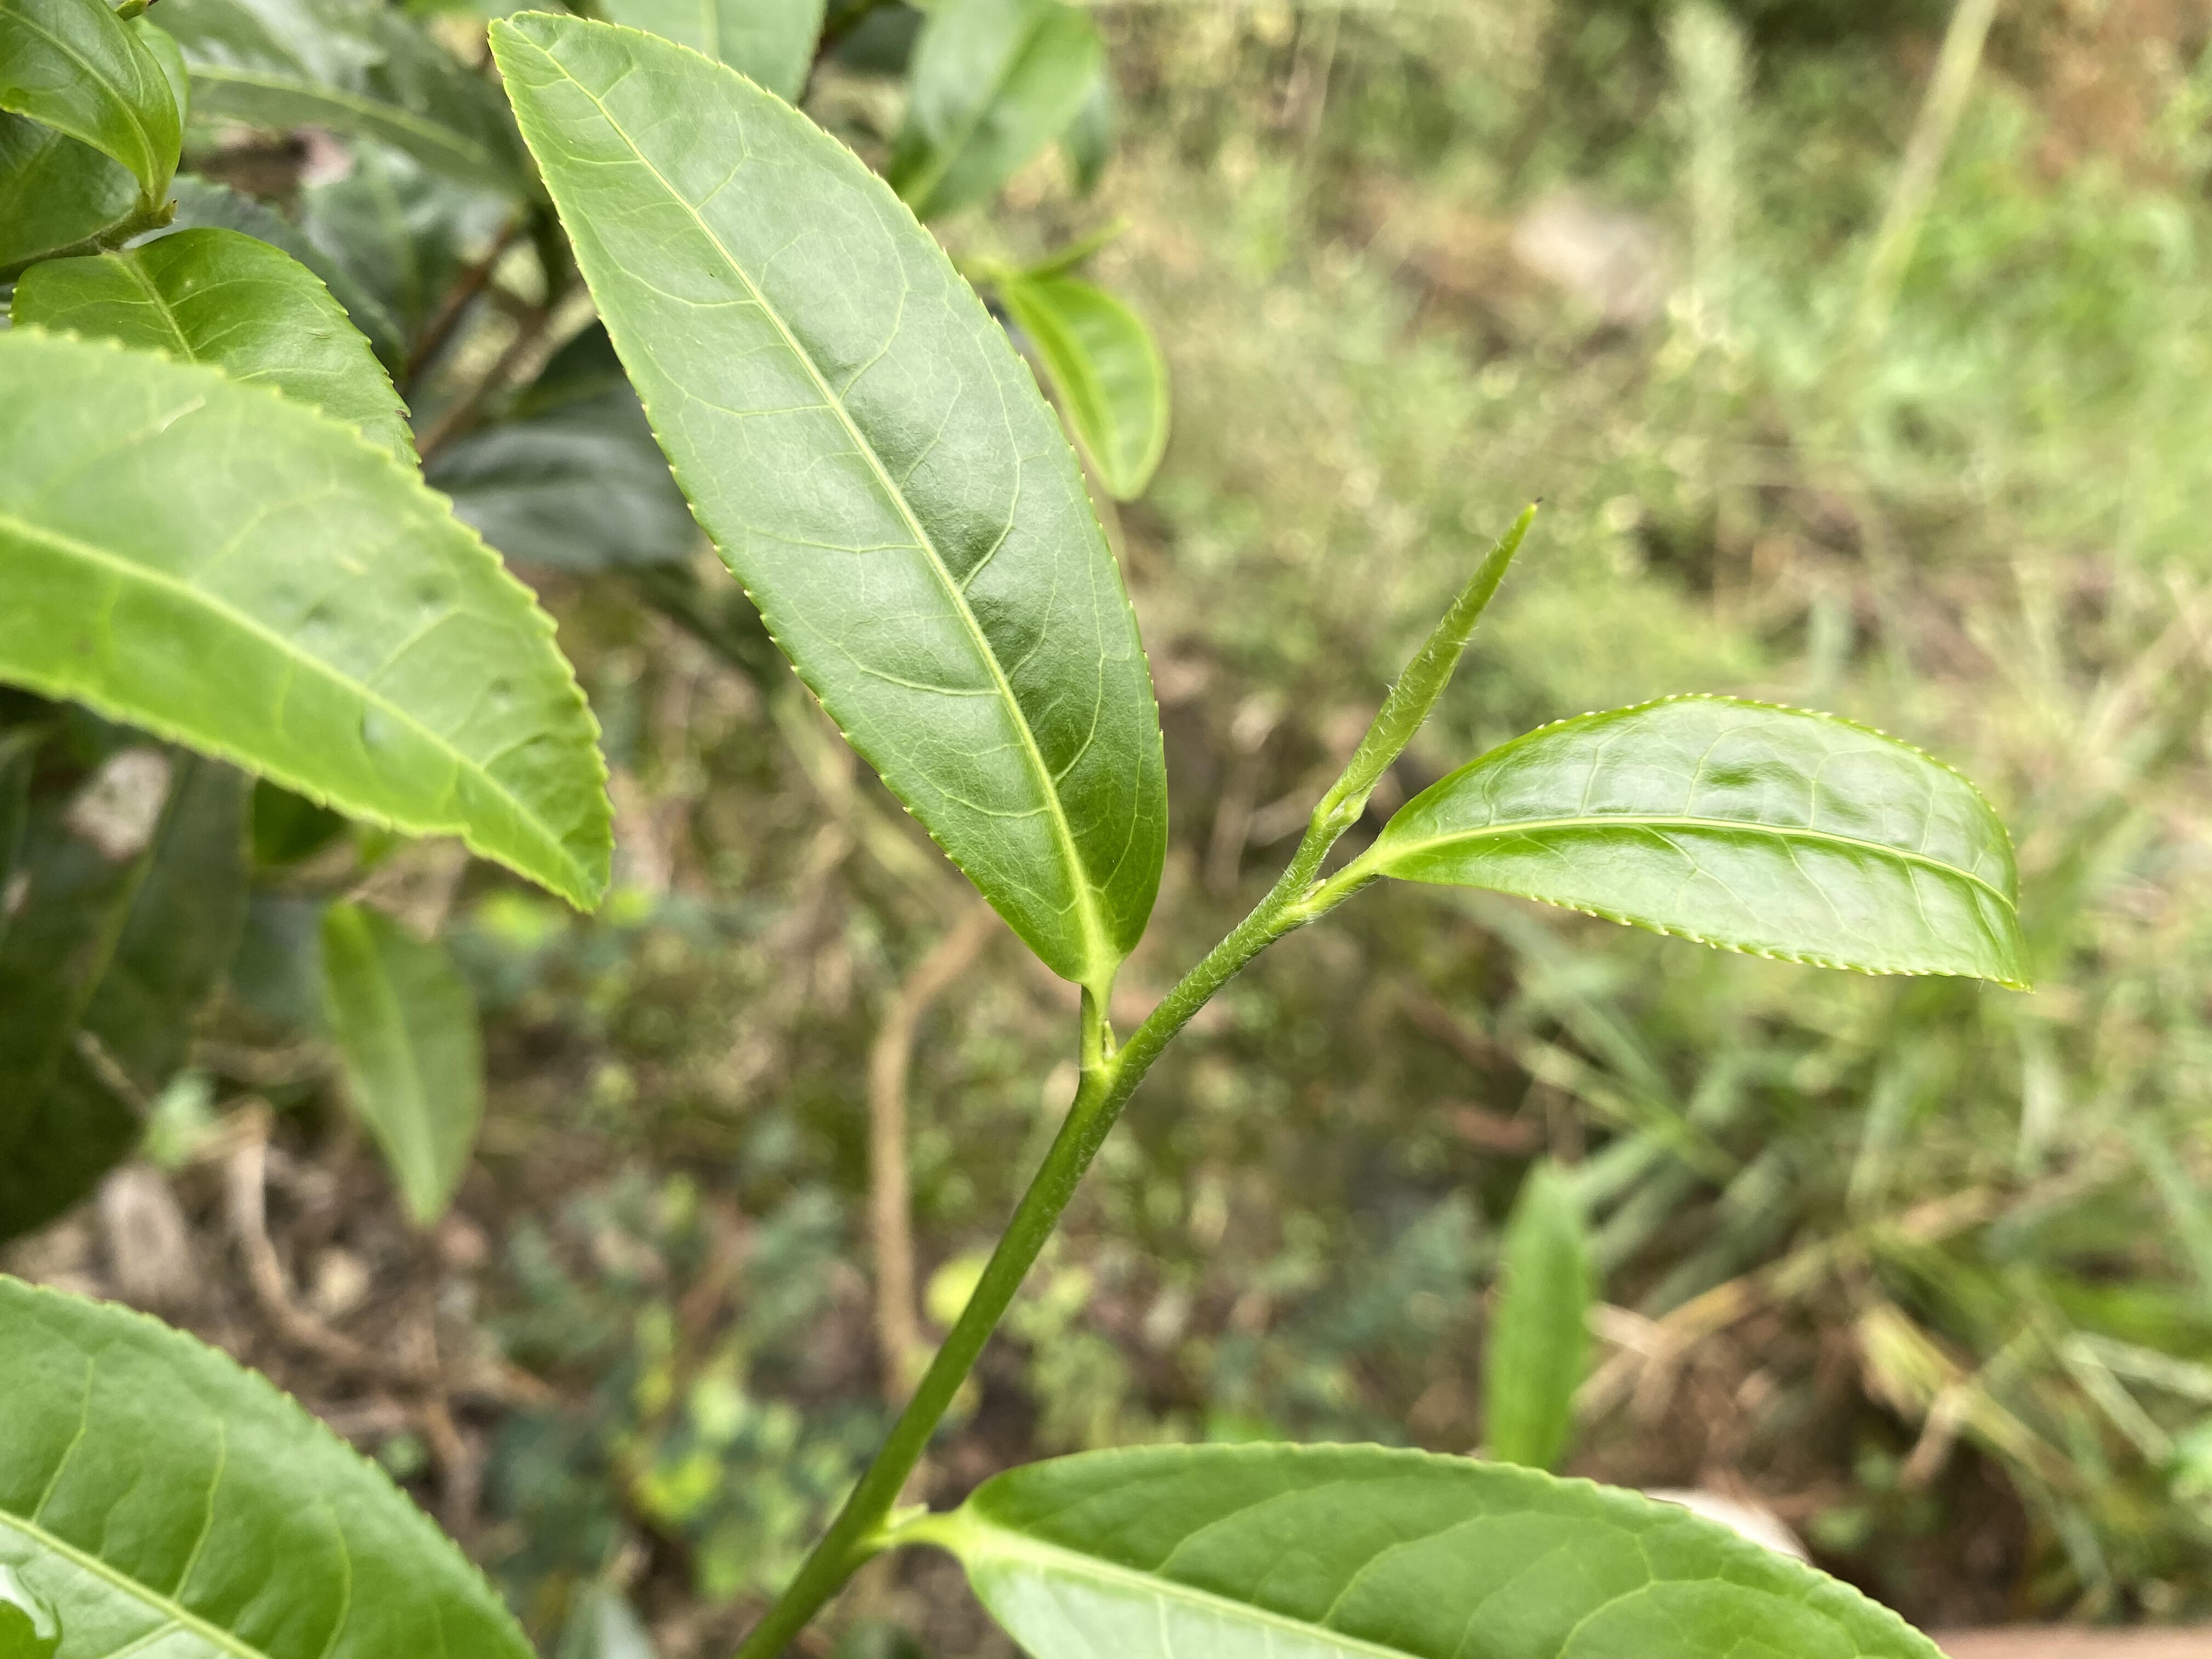healthy: (484, 9, 1172, 983), (0, 321, 615, 915), (951, 1438, 1951, 1657), (1371, 687, 2041, 1000)
